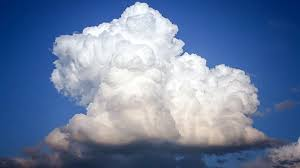Cumulus: (46, 2, 272, 154)
